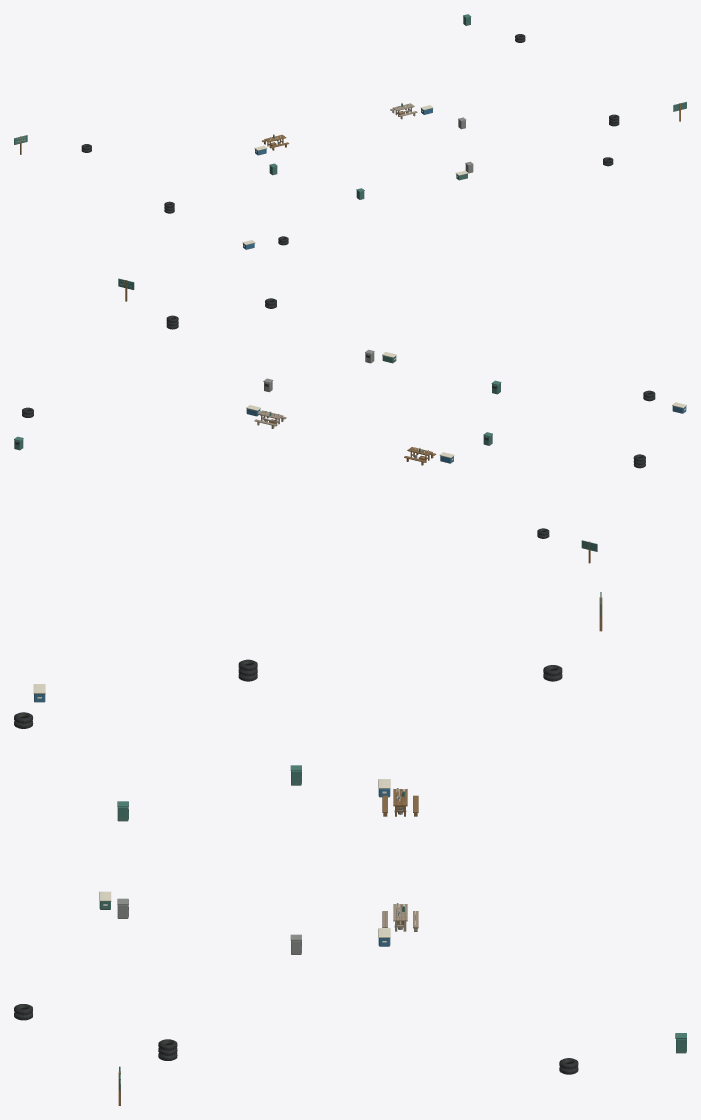
File: before-props.glb
3 renders of one model, top to bottom at view 1: azimuth 30°, elevation 25°; view 2: azimuth 150°, elevation 25°; view 3: azimuth 270°, elevation 25°, orthographic. The views are drawn at different scales.
Parts seen in each view (by area): view 1: Smoko Props Picnic Detail; view 2: Smoko Props Picnic Detail; view 3: Smoko Props Picnic Detail.
Part boxes in pixels (<box>): Smoko Props Picnic Detail: <box>14,14,686,249</box>; Smoko Props Picnic Detail: <box>14,278,686,563</box>; Smoko Props Picnic Detail: <box>14,592,686,1105</box>.
Size of the model in its own units: 71.8 by 2.3 by 41.96.
Materials: 14 (12 with a texture image).
